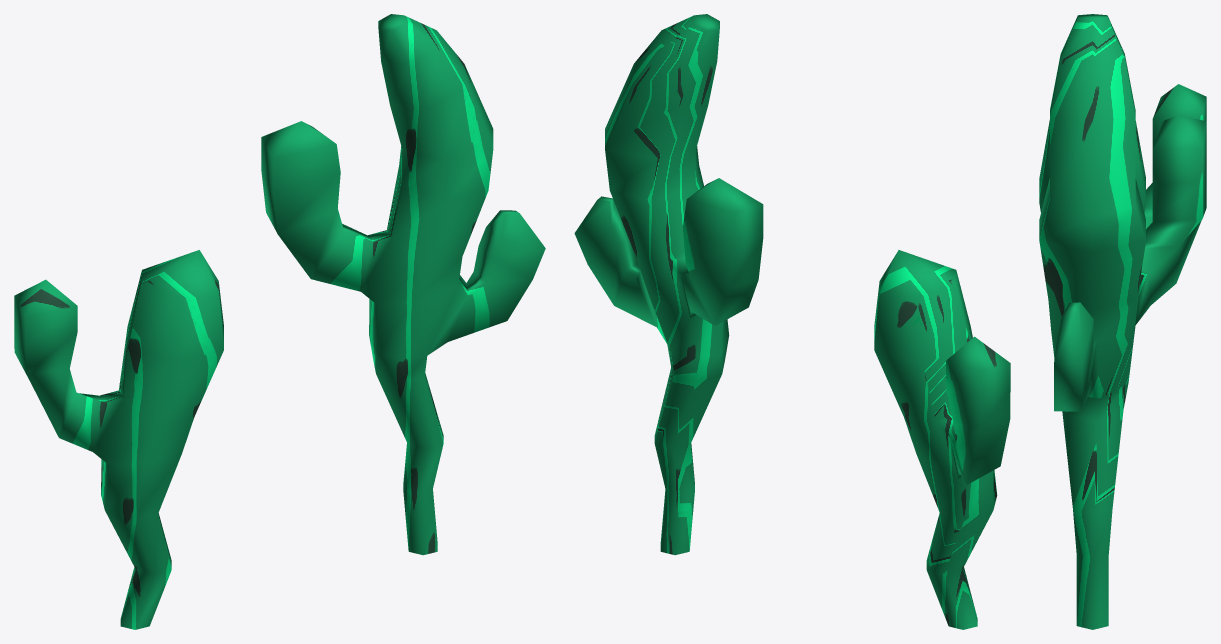
The model's file is cactus 2.fbx.
3 renders of one model, left to right at view 1: azimuth 30°, elevation 25°; view 2: azimuth 150°, elevation 25°; view 3: azimuth 270°, elevation 25°, orthographic. The views are drawn at different scales.
Parts seen in each view (by area): view 1: pCylinder2, pCylinder1; view 2: pCylinder2, pCylinder1; view 3: pCylinder2, pCylinder1.
Boxes of the visible parts, left/top/right/bottom form: pCylinder2: left=261, top=14, right=545, bottom=555; pCylinder1: left=14, top=250, right=223, bottom=629; pCylinder2: left=574, top=14, right=763, bottom=555; pCylinder1: left=874, top=250, right=1010, bottom=629; pCylinder2: left=1039, top=14, right=1206, bottom=629; pCylinder1: left=1039, top=84, right=1206, bottom=228.
Size of the model in its own units: 8.62 by 9.46 by 2.4.
